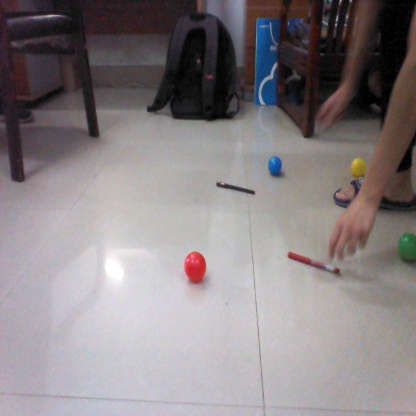ball: (182, 250, 211, 284), (261, 155, 287, 177), (345, 154, 371, 176), (396, 233, 415, 262)
pen: (284, 251, 341, 276), (215, 181, 257, 197)
